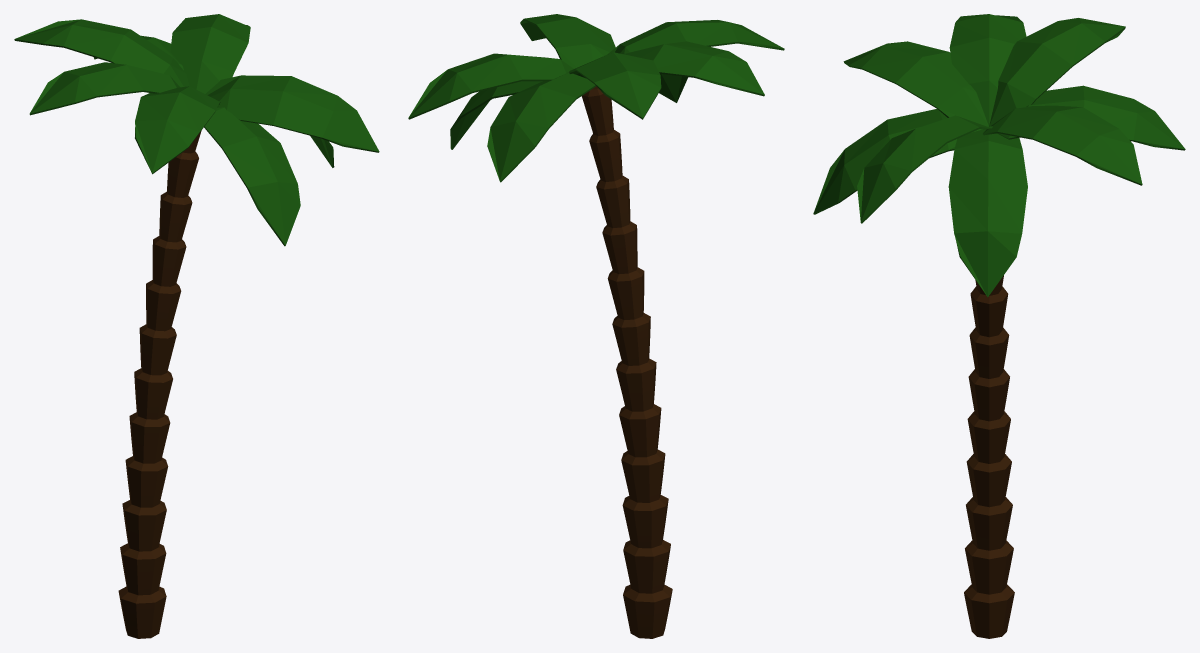
File: palmera_chica.fbx
3 renders of one model, left to right at view 1: azimuth 30°, elevation 25°; view 2: azimuth 150°, elevation 25°; view 3: azimuth 270°, elevation 25°, orthographic. The views are drawn at different scales.
Parts seen in each view (by area): view 1: Plane020, Plane016, Plane017, Plane018, Plane019, Plane013, Cylinder038, Cylinder039, Cylinder040, Cylinder041, Cylinder042, Cylinder043 (+5 smaller); view 2: Plane014, Plane019, Plane013, Plane018, Plane017, Plane020, Cylinder038, Cylinder039, Cylinder040, Cylinder041, Cylinder042, Cylinder043 (+8 smaller); view 3: Plane015, Plane018, Plane019, Plane017, Plane020, Plane013, Plane014, Plane016, Cylinder038, Cylinder039, Cylinder040, Cylinder041 (+4 smaller).
Part boxes in pixels (x1=…): Plane020: x1=205, y1=75, x2=379, y2=152; Plane016: x1=204, y1=107, x2=300, y2=246; Plane017: x1=135, y1=86, x2=220, y2=174; Plane018: x1=14, y1=19, x2=189, y2=87; Plane019: x1=170, y1=14, x2=250, y2=93; Plane013: x1=29, y1=62, x2=179, y2=115; Cylinder038: x1=118, y1=586, x2=166, y2=638; Cylinder039: x1=120, y1=543, x2=166, y2=595; Cylinder040: x1=122, y1=500, x2=166, y2=551; Cylinder041: x1=125, y1=456, x2=168, y2=507; Cylinder042: x1=129, y1=412, x2=170, y2=463; Cylinder043: x1=134, y1=368, x2=172, y2=419; Plane014: x1=487, y1=72, x2=595, y2=182; Plane019: x1=408, y1=53, x2=573, y2=119; Plane013: x1=623, y1=41, x2=764, y2=96; Plane018: x1=569, y1=52, x2=661, y2=119; Plane017: x1=607, y1=20, x2=784, y2=54; Plane020: x1=520, y1=14, x2=615, y2=68; Cylinder038: x1=623, y1=584, x2=672, y2=638; Cylinder039: x1=623, y1=540, x2=670, y2=593; Cylinder040: x1=622, y1=495, x2=668, y2=548; Cylinder041: x1=621, y1=449, x2=665, y2=502; Cylinder042: x1=619, y1=404, x2=661, y2=457; Cylinder043: x1=616, y1=358, x2=656, y2=411; Plane015: x1=948, y1=129, x2=1027, y2=297; Plane018: x1=989, y1=18, x2=1125, y2=126; Plane019: x1=983, y1=105, x2=1142, y2=185; Plane017: x1=843, y1=41, x2=988, y2=126; Plane020: x1=857, y1=115, x2=992, y2=223; Plane013: x1=949, y1=14, x2=1026, y2=125; Plane014: x1=997, y1=85, x2=1185, y2=150; Plane016: x1=813, y1=109, x2=982, y2=214; Cylinder038: x1=964, y1=584, x2=1014, y2=638; Cylinder039: x1=965, y1=540, x2=1013, y2=594; Cylinder040: x1=966, y1=497, x2=1012, y2=550; Cylinder041: x1=966, y1=454, x2=1011, y2=507.
Size of the model in its own units: 183 by 333 by 189.
